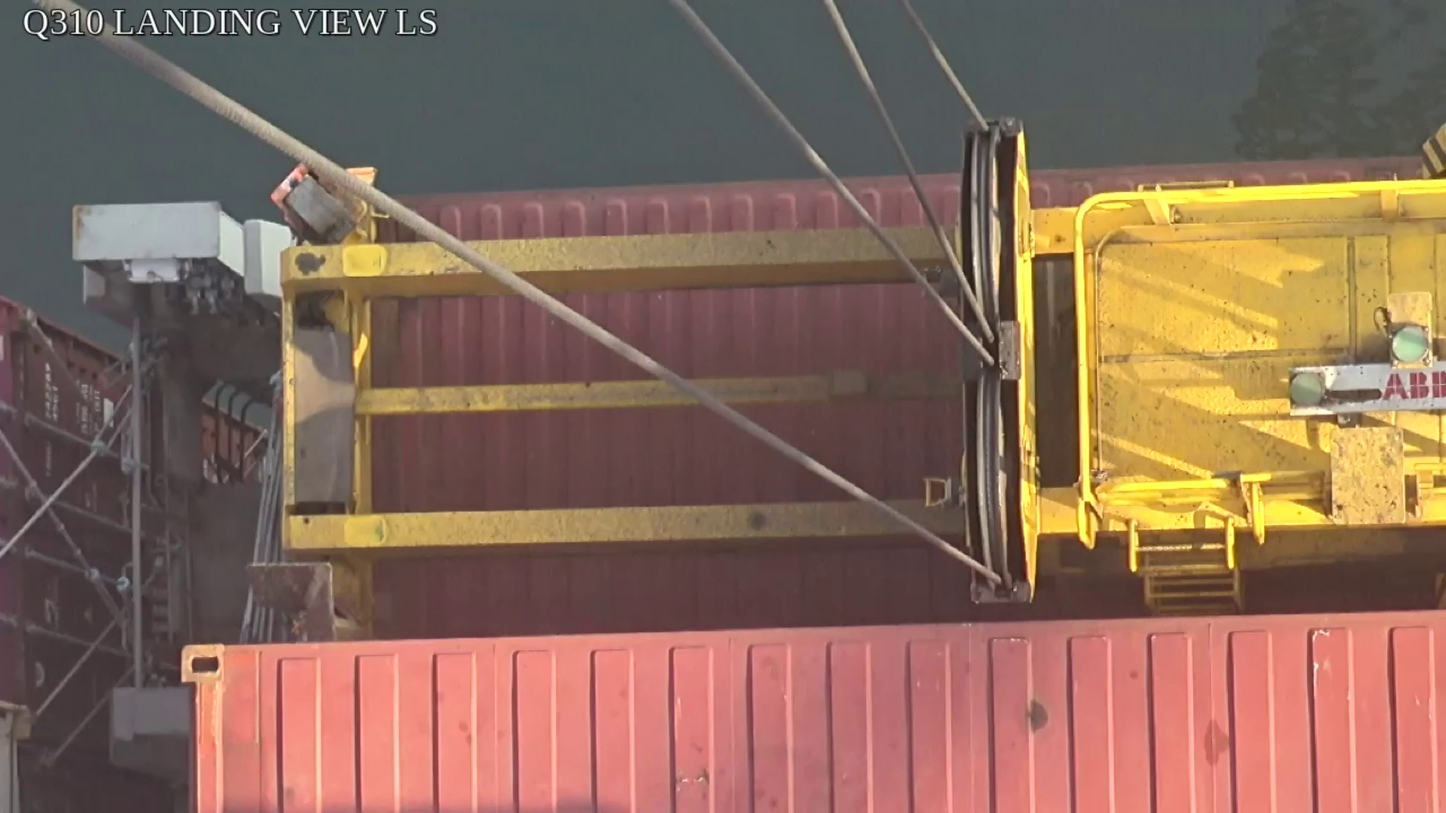left_gear: (954, 109, 1045, 607)
